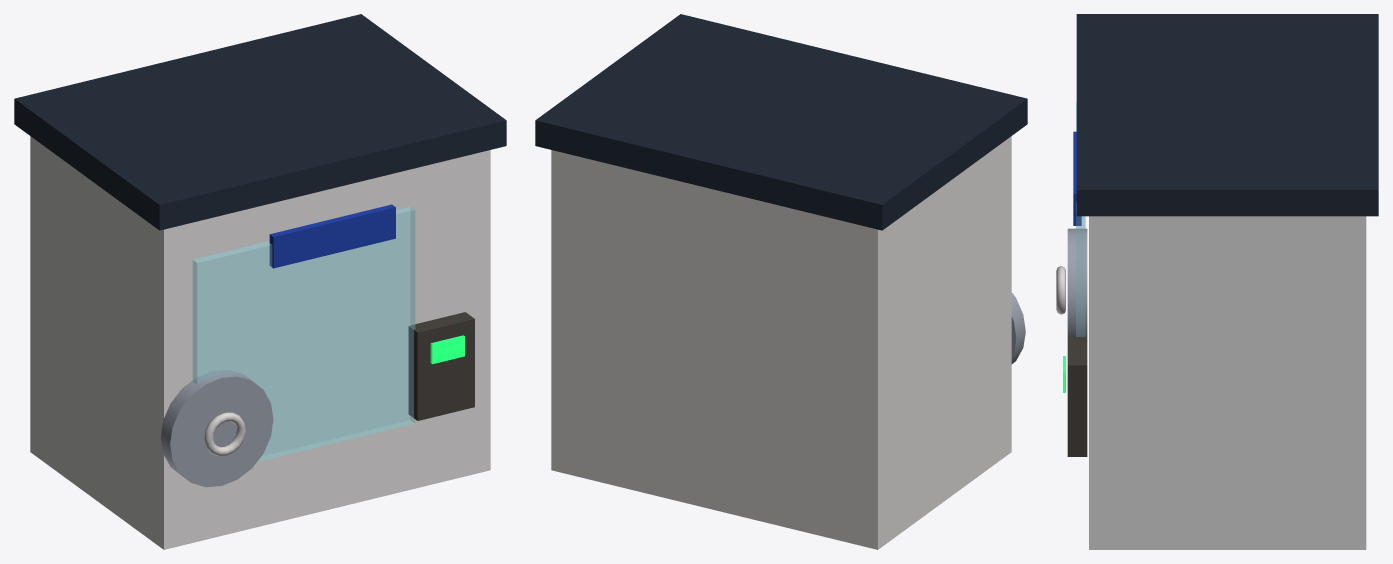
File: bank.glb
3 renders of one model, left to right at view 1: azimuth 30°, elevation 25°; view 2: azimuth 150°, elevation 25°; view 3: azimuth 270°, elevation 25°, orthographic. The views are drawn at different scales.
Size of the model in its own units: 1.76 by 1.7 by 1.36.
